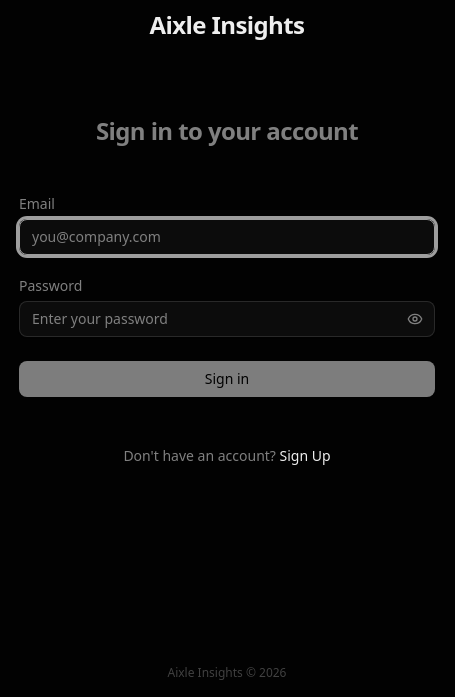
LoginEmail › shows error on failed login
Type "test@example.com" into the field labelled "Email" at coordinates (227, 236), box [19,218,435,254]
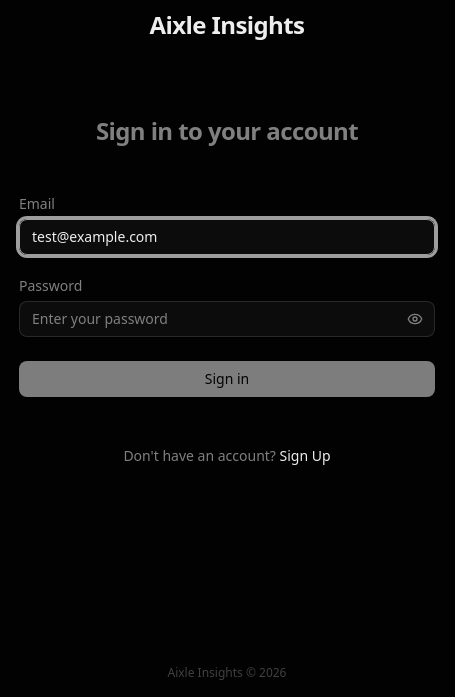
Type "wrong" into the password field labelled "Password" at coordinates (227, 318), box [19,300,435,336]
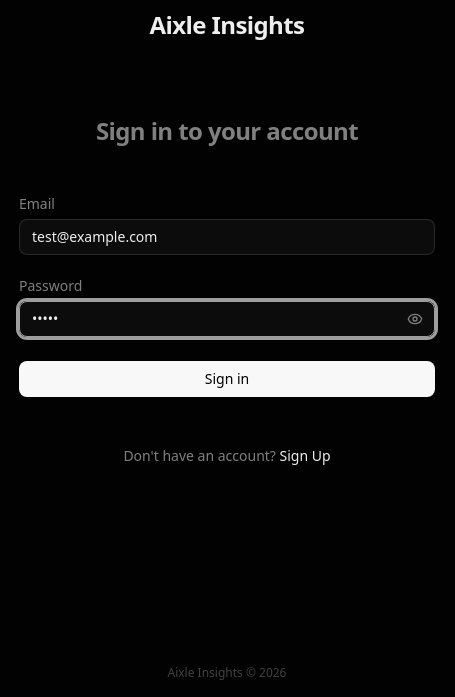
Click the button "Sign in" at coordinates (227, 378), box [19,360,435,396]
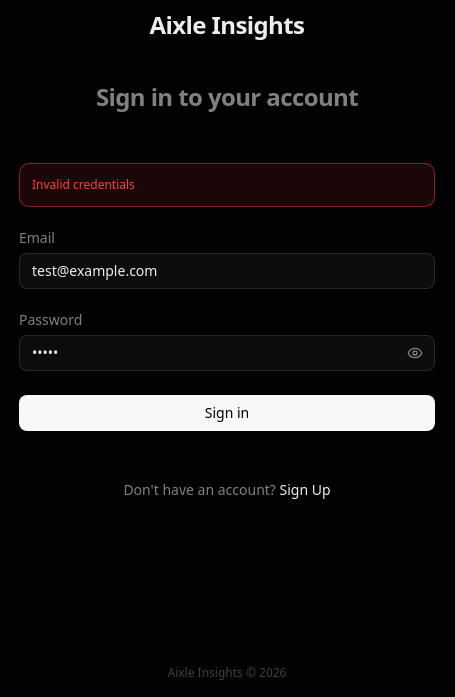
Result: the text "Invalid credentials" is shown at [32,176,135,192]
